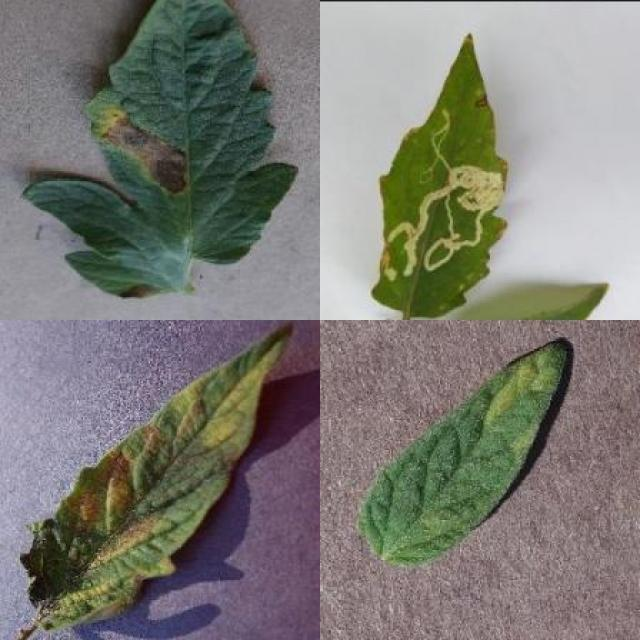Early Blight: (21, 0, 300, 300)
Leaf Miner: (370, 29, 511, 320)
Leaf Mold: (19, 320, 297, 633), (358, 338, 571, 563)
